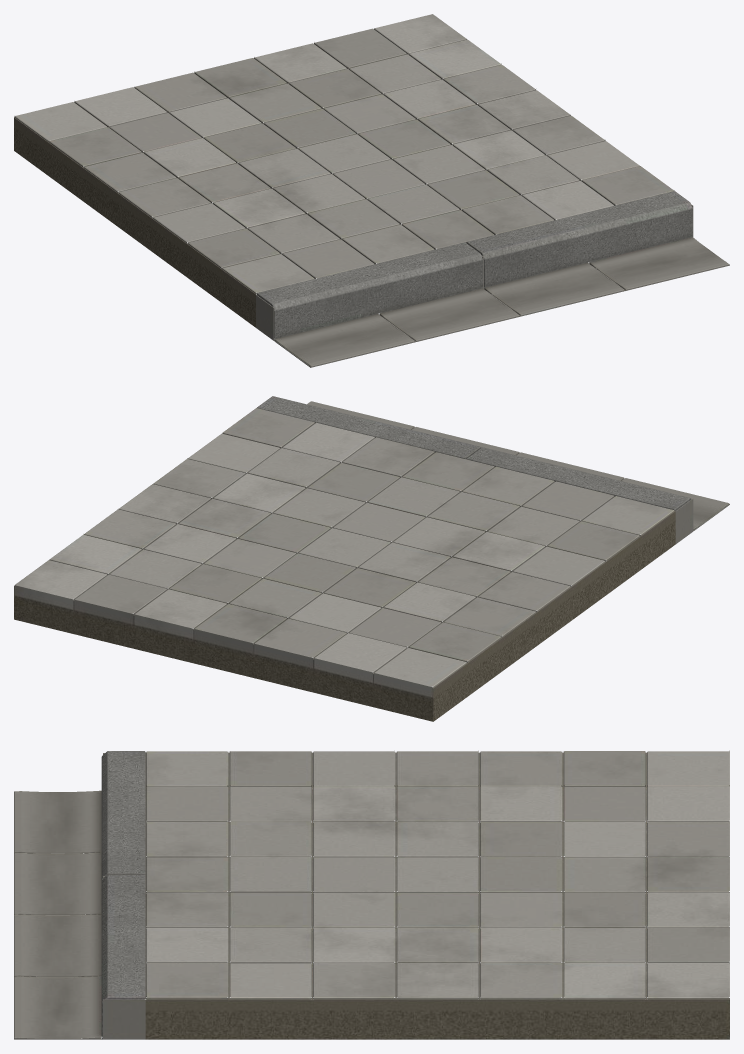
The model's file is gehweg.glb.
The picture shows the model from 3 angles, top to bottom: view 1: azimuth 30°, elevation 25°; view 2: azimuth 150°, elevation 25°; view 3: azimuth 270°, elevation 25°; orthographic projection. The views are drawn at different scales.
Visible parts, largest first — view 1: curb-sidewalk-segment_body; view 2: curb-sidewalk-segment_body; view 3: curb-sidewalk-segment_body.
Boxes of the visible parts, left/top/right/bottom form: curb-sidewalk-segment_body: left=14, top=14, right=729, bottom=367; curb-sidewalk-segment_body: left=14, top=396, right=729, bottom=721; curb-sidewalk-segment_body: left=14, top=750, right=729, bottom=1039.
Size of the model in its own units: 2 by 0.1632 by 2.45.
Materials: 1 (1 with a texture image).
